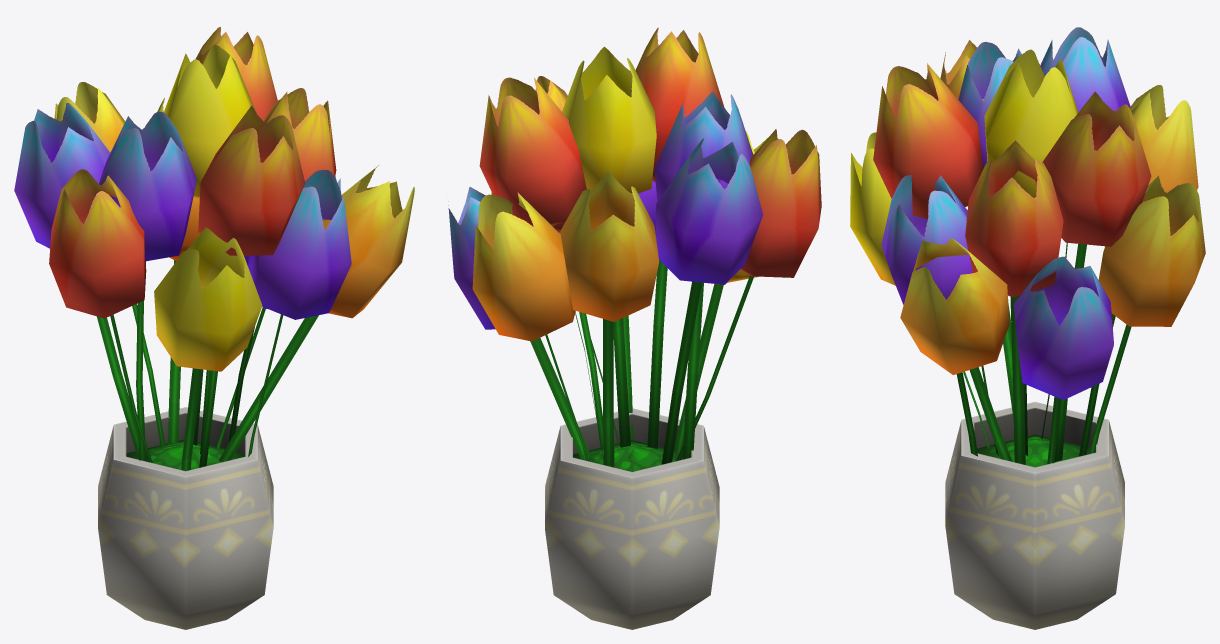
The model's file is TulipPot_05.FBX.
The picture shows the model from 3 angles, left to right: view 1: azimuth 30°, elevation 25°; view 2: azimuth 150°, elevation 25°; view 3: azimuth 270°, elevation 25°; orthographic projection. The views are drawn at different scales.
Parts seen in each view (by area): view 1: TulipPot_05; view 2: TulipPot_05; view 3: TulipPot_05.
Boxes of the visible parts, bbox=[...] form: TulipPot_05: bbox=[14, 27, 414, 629]; TulipPot_05: bbox=[448, 27, 821, 629]; TulipPot_05: bbox=[850, 27, 1205, 629].
Size of the model in its own units: 0.3482 by 0.5461 by 0.3051.
